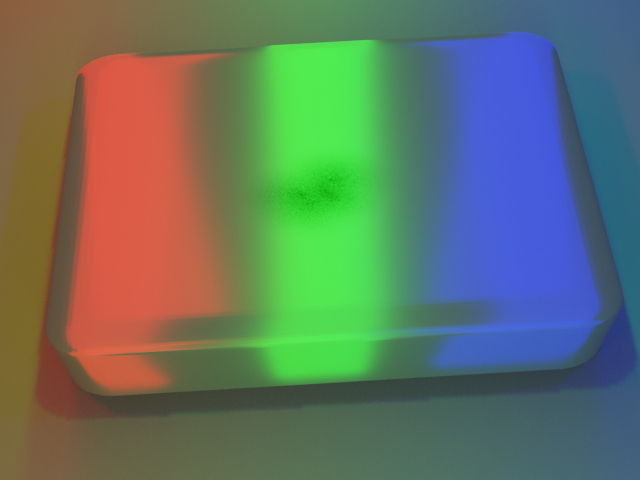stain: (221, 132, 433, 253)
